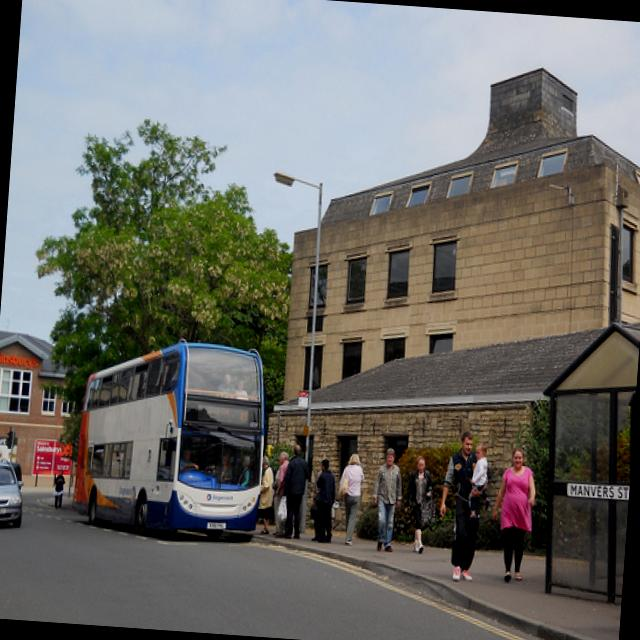Vehicle: (70, 336, 272, 542), (0, 457, 25, 528)
